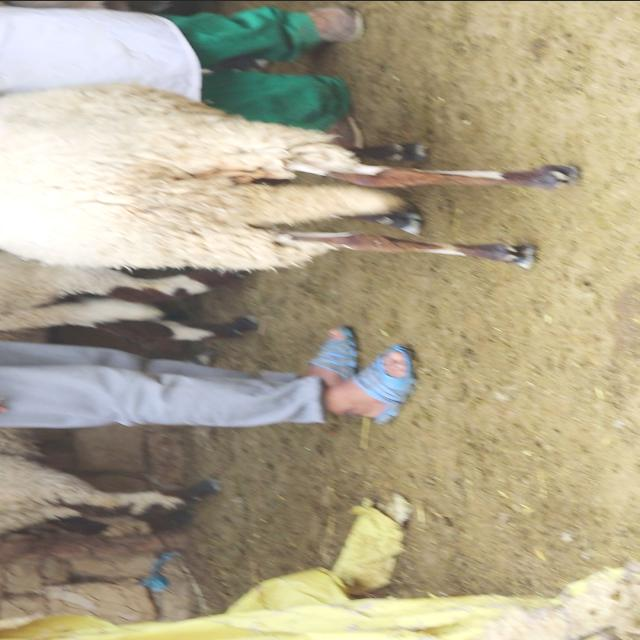Score_4: (0, 83, 578, 269)
